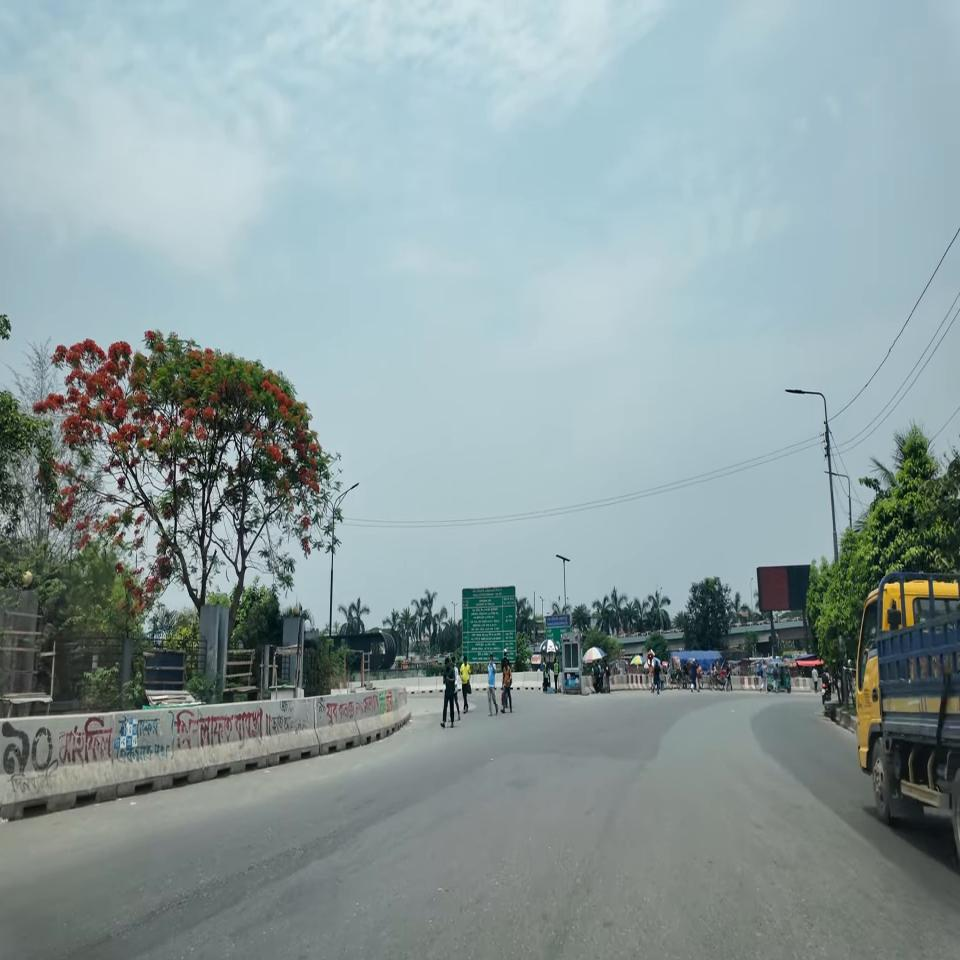person: (501, 654, 513, 713)
